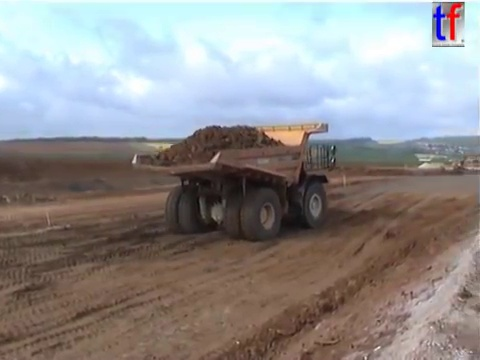truck: (128, 121, 338, 243)
